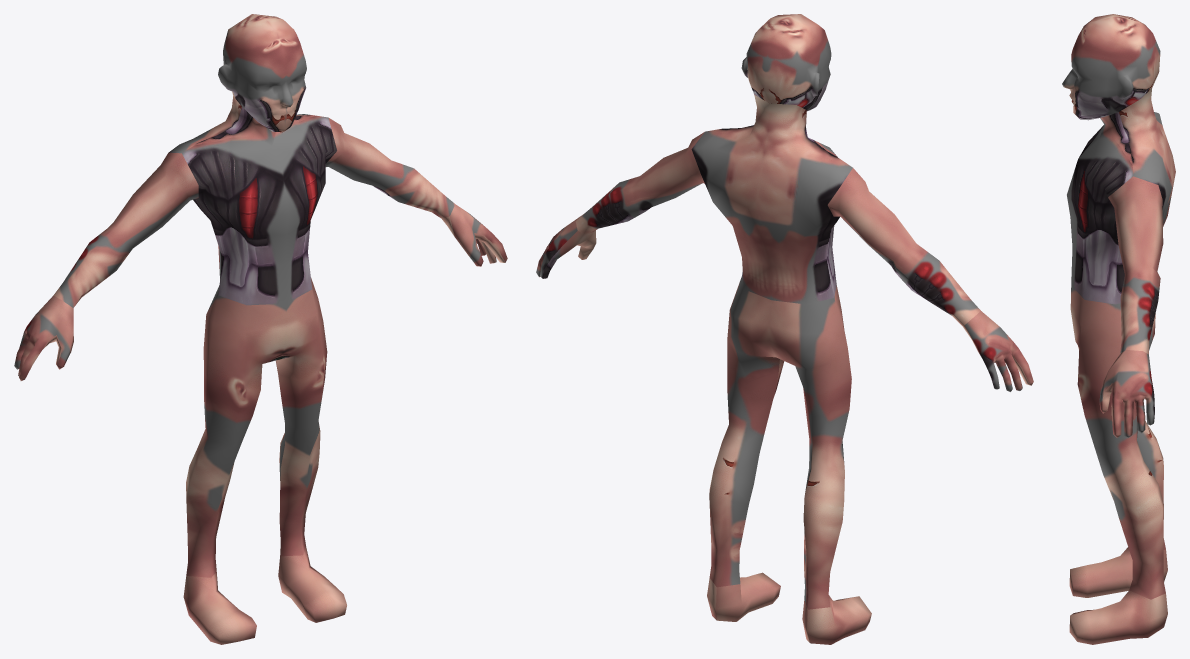
File: PlayerModel_1.FBX
3 views of the same model, side by side, from view 1: azimuth 30°, elevation 25°; view 2: azimuth 150°, elevation 25°; view 3: azimuth 270°, elevation 25° (orthographic).
Parts seen in each view (by area): view 1: 1_B_0; view 2: 1_B_0; view 3: 1_B_0.
Part boxes in pixels (x1,y1,x2,y2): 1_B_0: (14, 14, 507, 644); 1_B_0: (536, 14, 1033, 644); 1_B_0: (1062, 14, 1175, 644).
Bounding box in the file's own units: 272 × 55.19 × 318.
